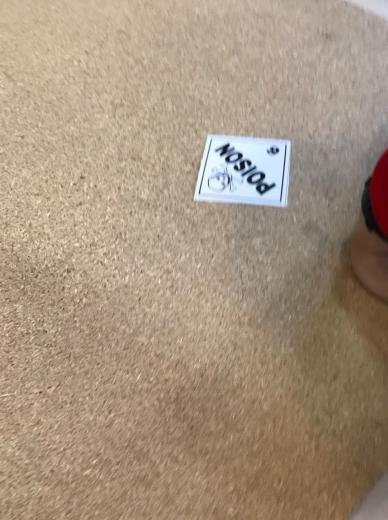poison: (195, 134, 292, 209)
